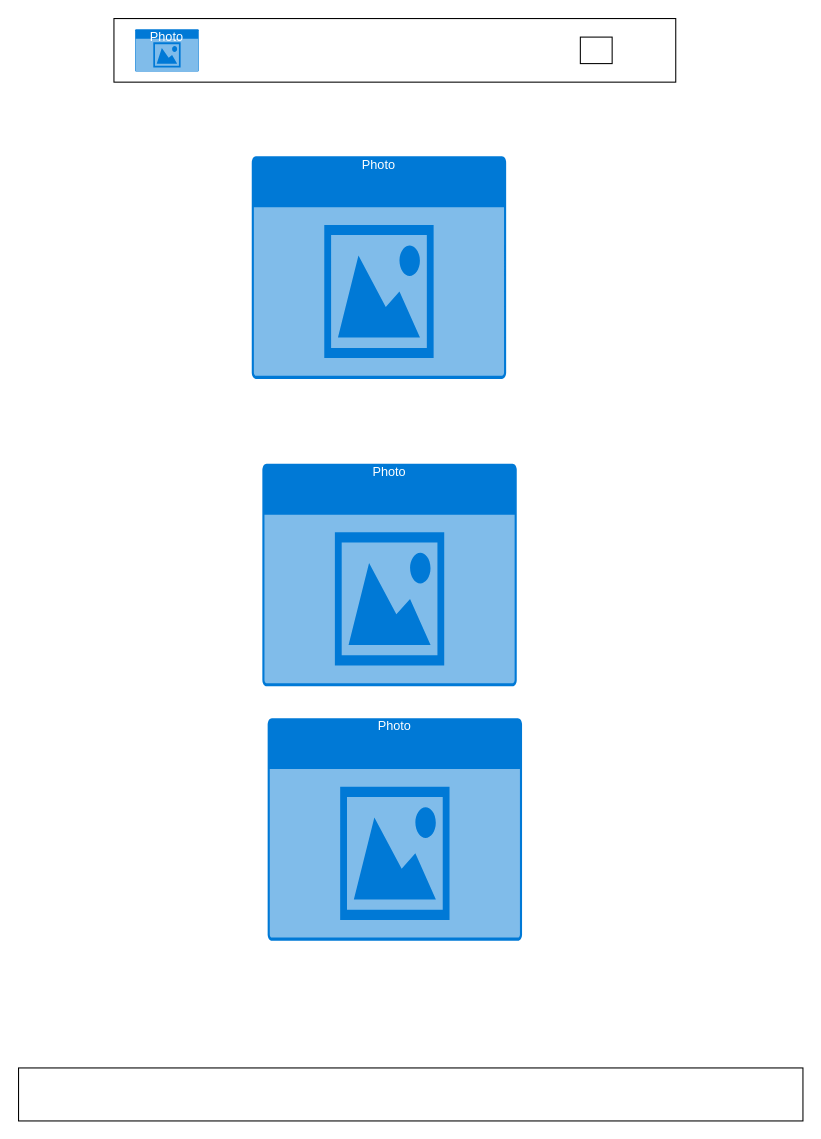
Some shapes in this 821 by 1139 pixel diagram are drawn without their labels. The shapes that lost their labels are listed below. From the top down, each one's centre as x and y in pixels, then its label:
point (595, 50): menu
point (410, 1094): Object
